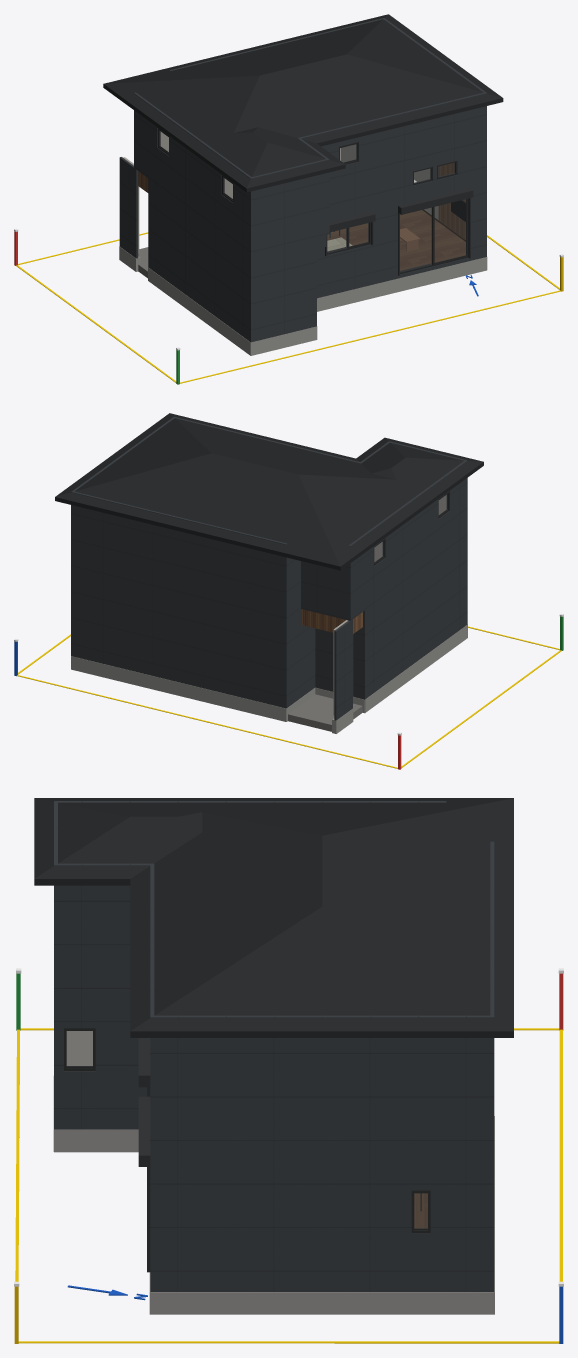
The picture shows the model from 3 angles, top to bottom: view 1: azimuth 30°, elevation 25°; view 2: azimuth 150°, elevation 25°; view 3: azimuth 270°, elevation 25°; orthographic projection. The views are drawn at different scales.
Parts seen in each view (by area): view 1: siding, roof, found, glass, floor, shutter, frame, lotline, wall, accent; view 2: siding, roof, found, lotline, tile, woodceil, wall; view 3: siding, roof, found, lotline, shutter, glass, wall, frame.
Part boxes in pixels (x1=…): siding: x1=119, y1=18, x2=486, y2=342; roof: x1=103, y1=14, x2=503, y2=192; found: x1=119, y1=246, x2=487, y2=355; glass: x1=160, y1=132, x2=465, y2=271; floor: x1=327, y1=210, x2=465, y2=270; shutter: x1=325, y1=188, x2=473, y2=275; frame: x1=158, y1=128, x2=468, y2=274; lotline: x1=16, y1=232, x2=560, y2=383; wall: x1=123, y1=131, x2=438, y2=253; accent: x1=438, y1=162, x2=465, y2=239; siding: x1=71, y1=417, x2=467, y2=720; roof: x1=55, y1=413, x2=483, y2=570; found: x1=71, y1=624, x2=467, y2=733; lotline: x1=17, y1=626, x2=561, y2=768; tile: x1=288, y1=694, x2=362, y2=731; woodceil: x1=302, y1=609, x2=362, y2=633; wall: x1=333, y1=495, x2=446, y2=715; siding: x1=54, y1=801, x2=494, y2=1291; roof: x1=34, y1=798, x2=513, y2=1037; found: x1=53, y1=1076, x2=494, y2=1314; lotline: x1=15, y1=1028, x2=562, y2=1343; shutter: x1=138, y1=1038, x2=150, y2=1272; glass: x1=67, y1=1031, x2=427, y2=1227; wall: x1=66, y1=1031, x2=92, y2=1065; frame: x1=64, y1=1028, x2=430, y2=1233.
Size of the model in its own units: 14.14 by 7.01 by 10.42.
30 materials, 6 textured.
